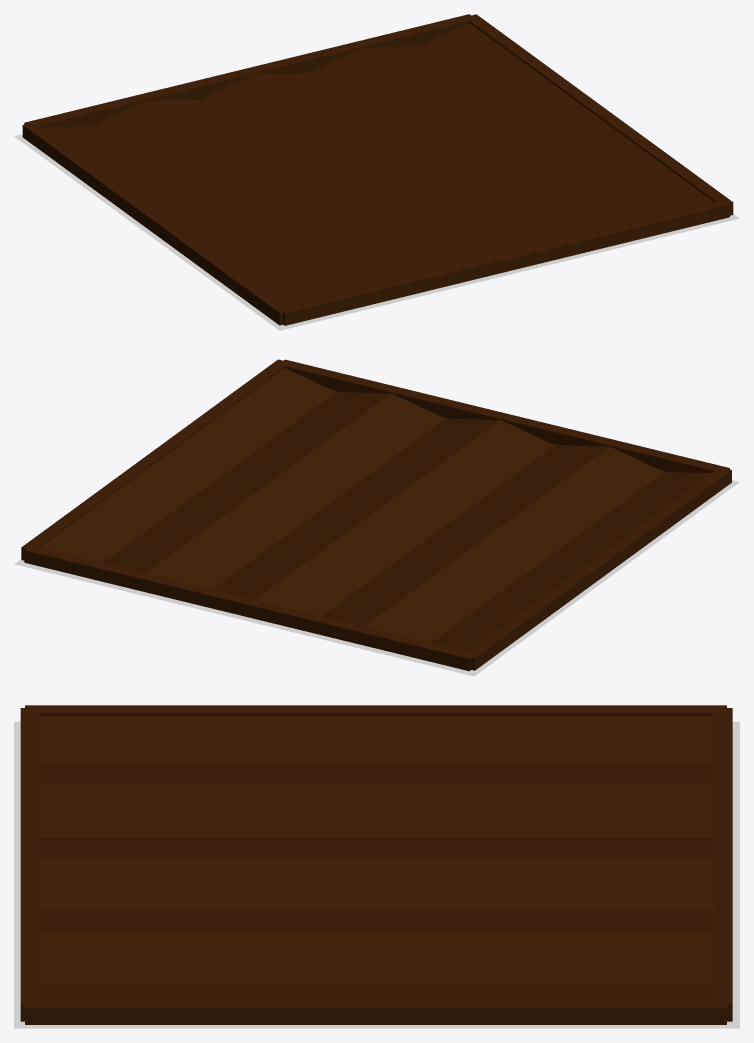
Rendered from PotatoPlot.fbx.
The picture shows the model from 3 angles, top to bottom: view 1: azimuth 30°, elevation 25°; view 2: azimuth 150°, elevation 25°; view 3: azimuth 270°, elevation 25°; orthographic projection. The views are drawn at different scales.
Visible parts, largest first — view 1: Cube, Plane; view 2: Cube, Plane; view 3: Cube, Plane.
Boxes of the visible parts, x1=… form: Cube: x1=22, y1=14, x2=733, y2=325; Plane: x1=14, y1=134, x2=739, y2=330; Cube: x1=21, y1=359, x2=731, y2=671; Plane: x1=14, y1=480, x2=739, y2=676; Cube: x1=20, y1=705, x2=732, y2=1024; Plane: x1=14, y1=721, x2=739, y2=1028.
Bounding box in the file's own units: 1000 × 34.02 × 1000.
